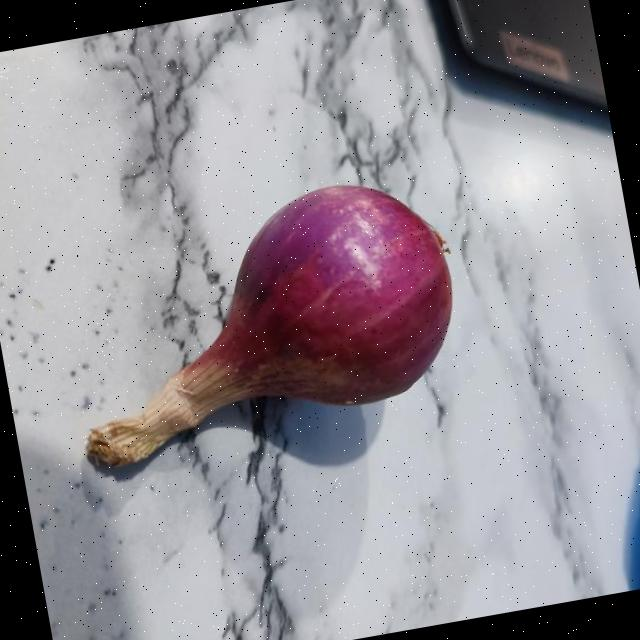Onion: (85, 185, 451, 468)
